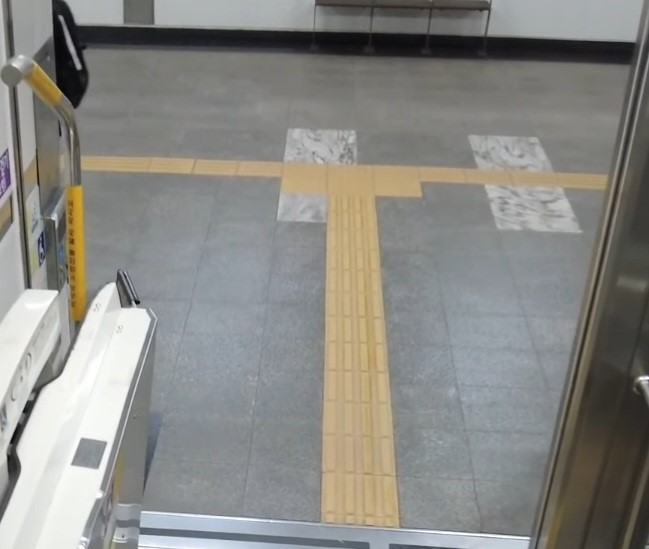guideBlock: (322, 435, 397, 485), (322, 476, 396, 519), (321, 399, 391, 443), (321, 345, 388, 379), (326, 317, 387, 352), (326, 293, 386, 327), (329, 267, 381, 306), (329, 210, 382, 244), (328, 230, 381, 261), (330, 246, 378, 279), (329, 373, 383, 400), (333, 194, 381, 220)
